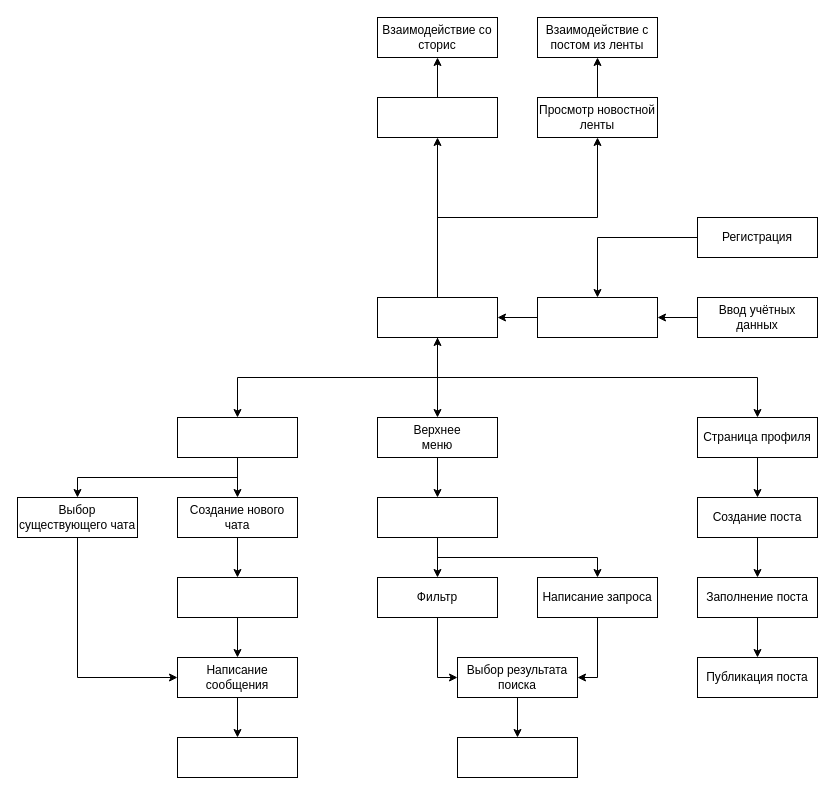
The diagram is 835 pixels wide and 795 high, and some of its shapes have lost their labels. Each missing label, with the centre of its shape:
Взаимодействие с результатом: (x=517, y=757)
Вход в учётную запись: (x=597, y=317)
Выбор адресата: (x=237, y=597)
Выбор сторис: (x=437, y=117)
Главная страница: (x=437, y=317)
Отправка сообщения: (x=237, y=757)
Страница поиска: (x=437, y=517)
Страница сообщений: (x=237, y=437)
